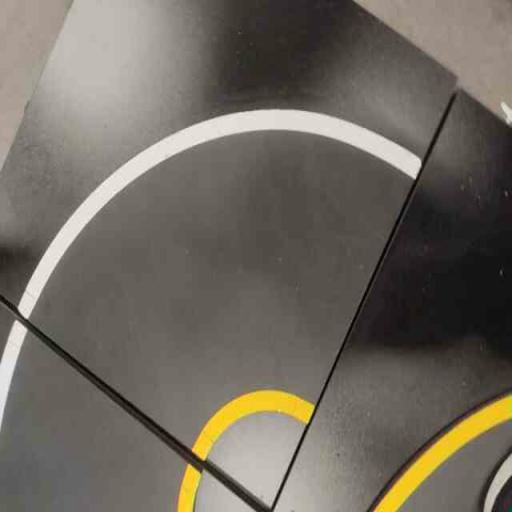left: (19, 104, 438, 462)
